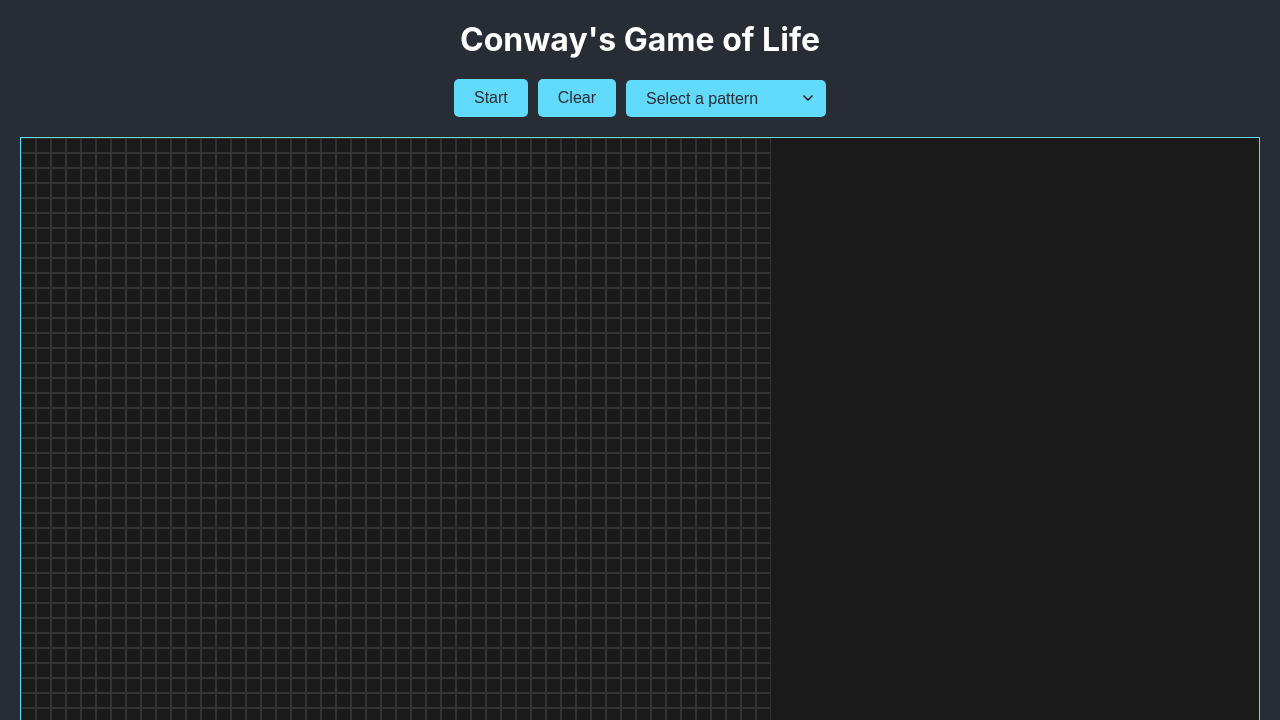
App Component › displays pattern description when a pattern is selected
This screenshot has width=1280, height=720.
Note: Select the Glider pattern
Select "Glider" in the dropdown. click: x=726, y=98
box: [626,80,826,116]
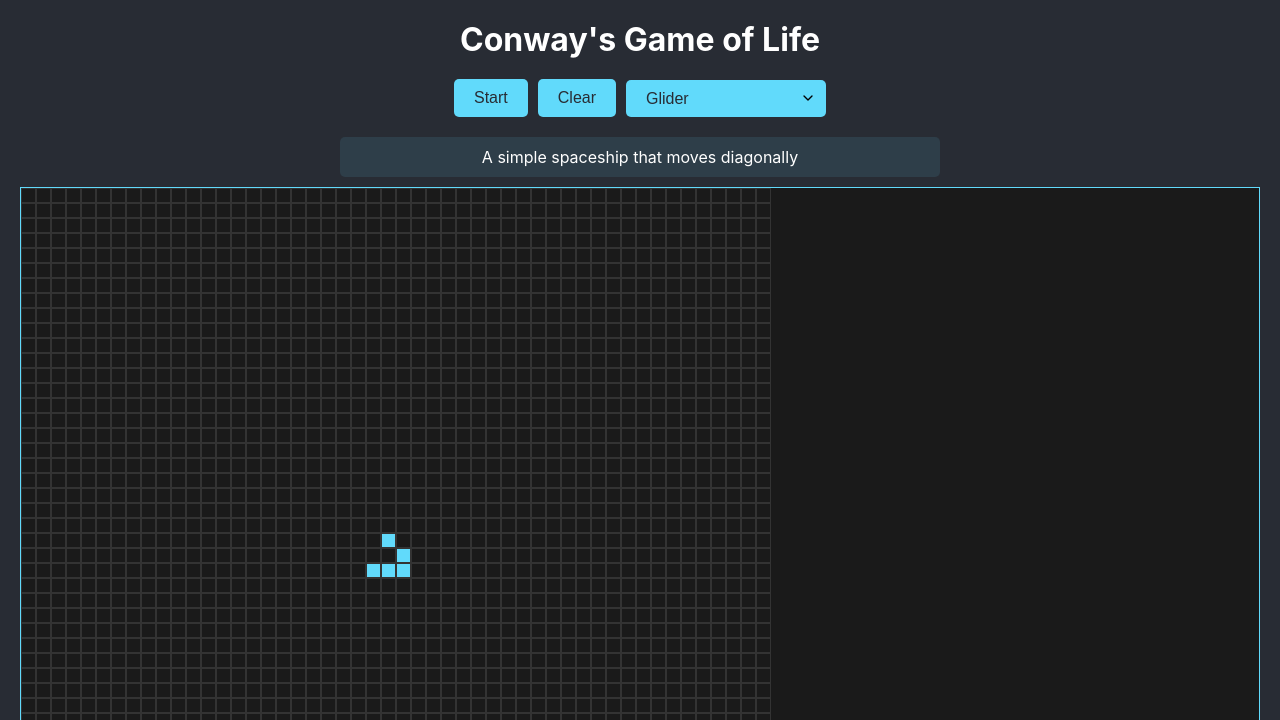
Check: the text "A simple spaceship that moves diagonally" is shown, box [340,137,940,177]
